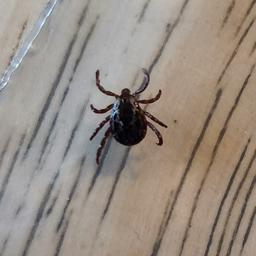Rhipicephalus sanguineus: (89, 68, 167, 166)
